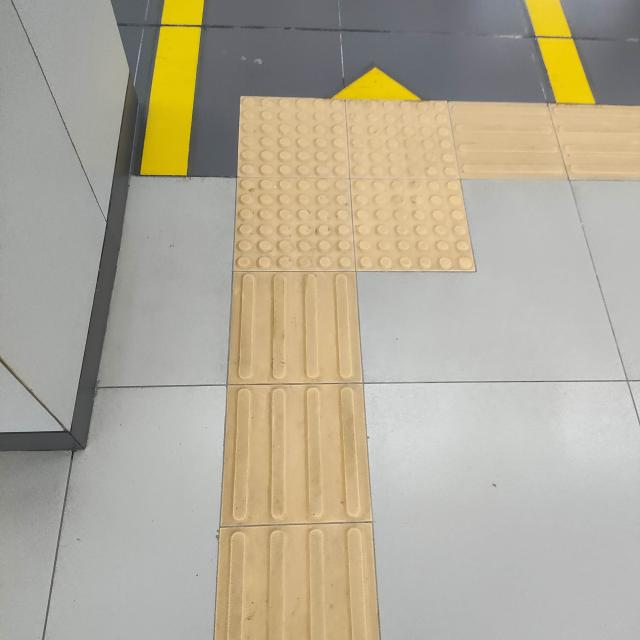kanan: (179, 66, 639, 318)
